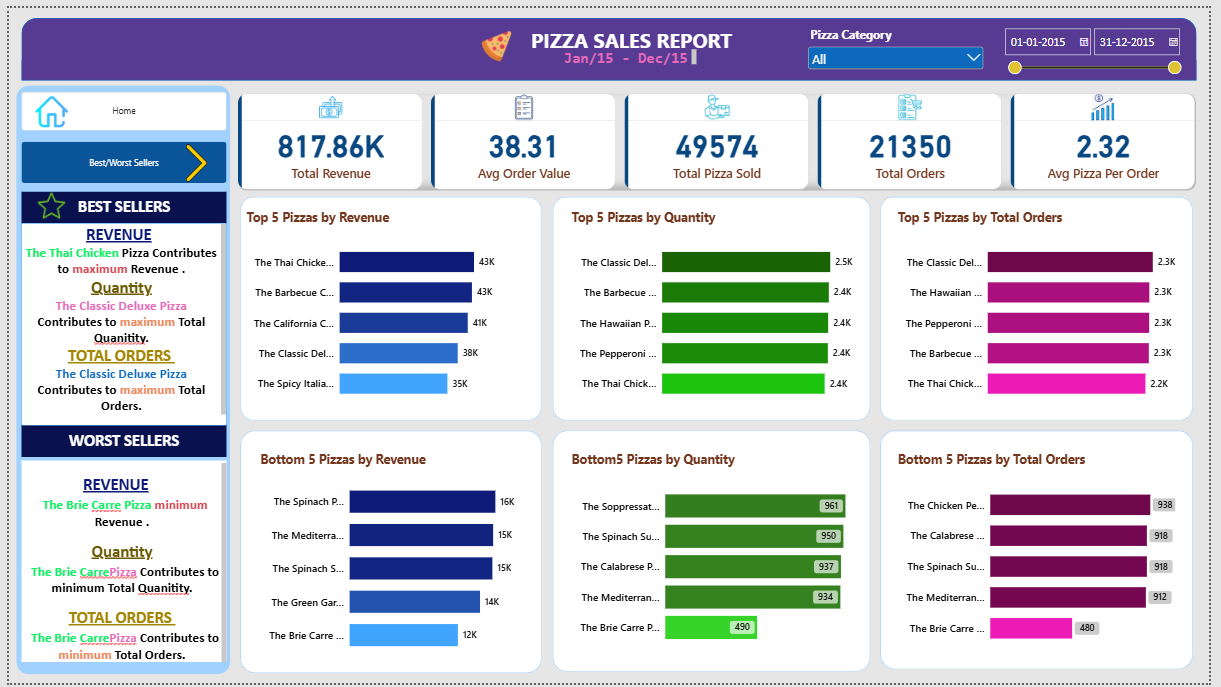

The page's visual inventory and layout, read from the dashboard file:
{"tool":"powerbi","page":{"name":"Best/Worst Sellers ","canvas":[1920,1080],"ordinal":1},"visuals":[{"type":"shape","box":[4,116,358,958],"z":0},{"type":"cardVisual","fields":{"Data":["public pizza_sales.Total Revenue","public pizza_sales.Avg Order Value","public pizza_sales.Total Pizza Sold","public pizza_sales.Total Orders","public pizza_sales.Avg Pizza Per Order"]},"box":[364,134,1537.4,161],"z":1000},{"type":"shape","box":[20,16,1880,100],"z":2000},{"type":"textbox","box":[820,30,352,62],"z":3000},{"type":"textbox","box":[888,66,212,26],"z":4000},{"type":"image","box":[740,36,80,50],"z":5000},{"type":"shape","box":[362,294,498,374],"z":6000},{"type":"textbox","box":[20,294,328,50],"z":7000},{"type":"textbox","box":[20,344,328,324],"z":8000},{"type":"textbox","box":[20,668,328,50],"z":9000},{"type":"textbox","box":[20,724,328,336],"z":10000},{"type":"slicer","fields":{"Values":["public pizza_sales.pizza_category"]},"box":[1274.8,29.3,289.8,77],"z":11000},{"type":"slicer","fields":{"Values":["public pizza_sales.order_date"]},"box":[1586.6,27.5,295.3,77],"z":12000},{"type":"shape","box":[1386,294,516,374],"z":13000},{"type":"shape","box":[862,294,524,374],"z":14000},{"type":"shape","box":[362,668,498,404],"z":15000},{"type":"shape","box":[862,668,524,402],"z":16000},{"type":"shape","box":[1386,668,516,398],"z":17000},{"type":"barChart","title":"Top 5 Pizzas by Revenue","fields":{"Category":["public pizza_sales.pizza_name"],"Y":["public pizza_sales.Total Revenue"]},"box":[364,306,478,348],"z":18000},{"type":"barChart","title":"Bottom 5 Pizzas by Revenue","fields":{"Category":["public pizza_sales.pizza_name"],"Y":["public pizza_sales.Total Revenue"]},"box":[386,694,474,366],"z":19000},{"type":"barChart","title":"Top 5 Pizzas by Quantity","fields":{"Category":["public pizza_sales.pizza_name"],"Y":["public pizza_sales.Total Pizza Sold"]},"box":[884,306,482,348],"z":20000},{"type":"barChart","title":"Bottom5 Pizzas by Quantity","fields":{"Category":["public pizza_sales.pizza_name"],"Y":["public pizza_sales.Total Pizza Sold"]},"box":[884,694,482,352],"z":21000},{"type":"barChart","title":"Top 5 Pizzas by Total Orders","fields":{"Category":["public pizza_sales.pizza_name"],"Y":["public pizza_sales.Total Orders"]},"box":[1406,306,476,348],"z":22000},{"type":"barChart","title":"Bottom 5 Pizzas by Total Orders","fields":{"Category":["public pizza_sales.pizza_name"],"Y":["public pizza_sales.Total Orders"]},"box":[1406,694,476,352],"z":23000},{"type":"pageNavigator","box":[20,214,328,66],"z":24000},{"type":"pageNavigator","box":[20,134,328,62],"z":25000},{"type":"image","box":[214,218,172,60],"z":26000},{"type":"image","box":[20,140,96,52],"z":27000},{"type":"image","box":[38,294,60,44],"z":28000}]}

Visuals, with their boxes in screenshot pixels (x1, y1, x2, y2), scaled from the page's 1920x1080 canvas onto the 1221x687 screenshot:
shape: 3/74/230/683
cardVisual - public pizza_sales.Total Revenue x public pizza_sales.Avg Order Value: 231/85/1209/188
shape: 13/10/1208/74
textbox: 521/19/745/59
textbox: 565/42/700/59
image: 471/23/521/55
shape: 230/187/547/425
textbox: 13/187/221/219
textbox: 13/219/221/425
textbox: 13/425/221/457
textbox: 13/461/221/674
slicer - public pizza_sales.pizza_category: 811/19/995/68
slicer - public pizza_sales.order_date: 1009/17/1197/66
shape: 881/187/1210/425
shape: 548/187/881/425
shape: 230/425/547/682
shape: 548/425/881/681
shape: 881/425/1210/678
"Top 5 Pizzas by Revenue" barChart: 231/195/535/416
"Bottom 5 Pizzas by Revenue" barChart: 245/441/547/674
"Top 5 Pizzas by Quantity" barChart: 562/195/869/416
"Bottom5 Pizzas by Quantity" barChart: 562/441/869/665
"Top 5 Pizzas by Total Orders" barChart: 894/195/1197/416
"Bottom 5 Pizzas by Total Orders" barChart: 894/441/1197/665
pageNavigator: 13/136/221/178
pageNavigator: 13/85/221/125
image: 136/139/245/177
image: 13/89/74/122
image: 24/187/62/215
